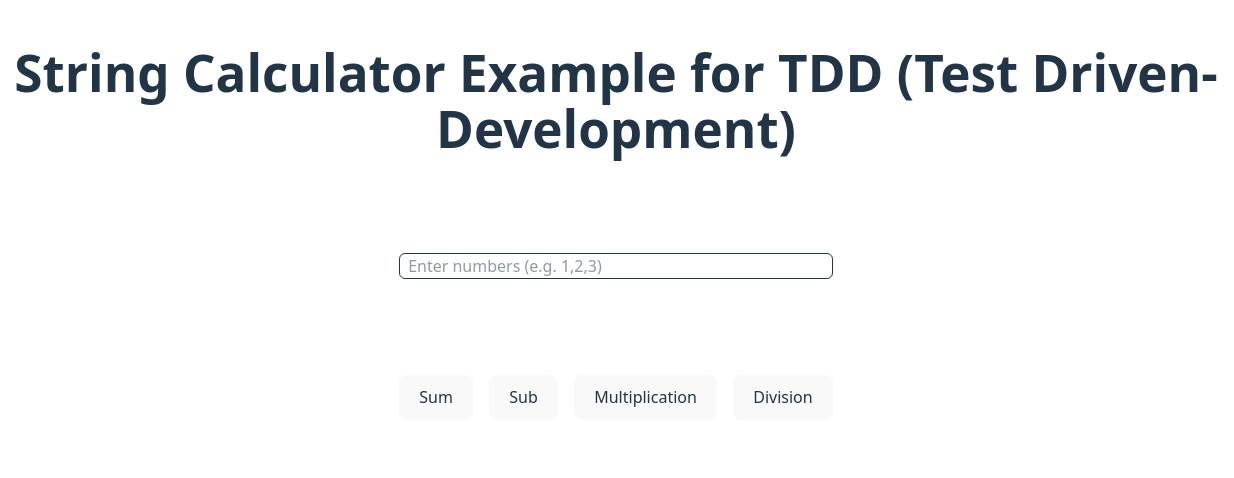
Test: multiply numbers separated by comma.
Type "3,2,1" into the field.
click(616, 266); type("3,2,1")  # box left=399, top=253, right=833, bottom=279
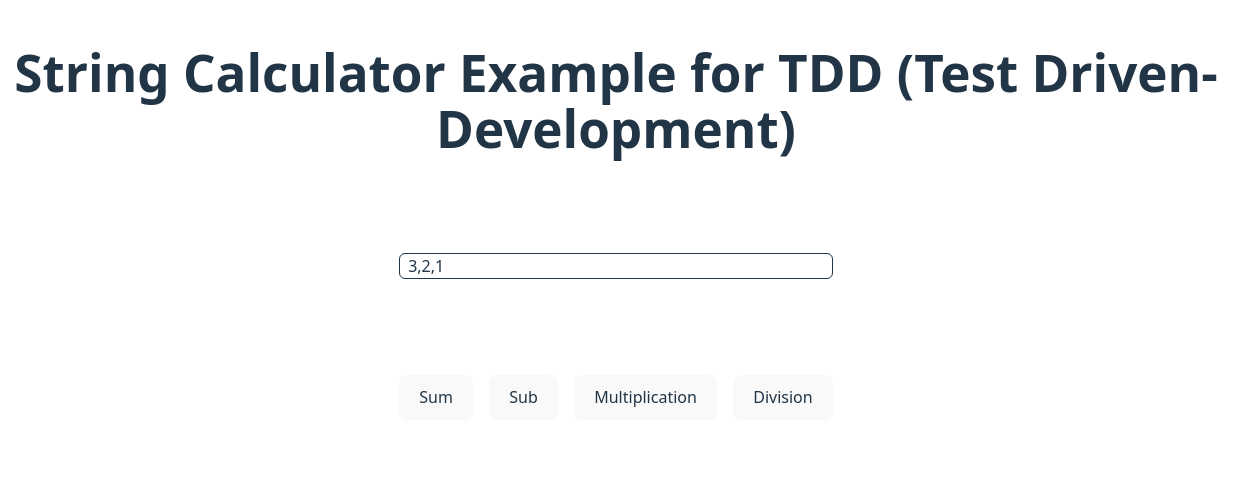
Click the button "Multiplication".
click(646, 397)  # box left=574, top=375, right=717, bottom=420
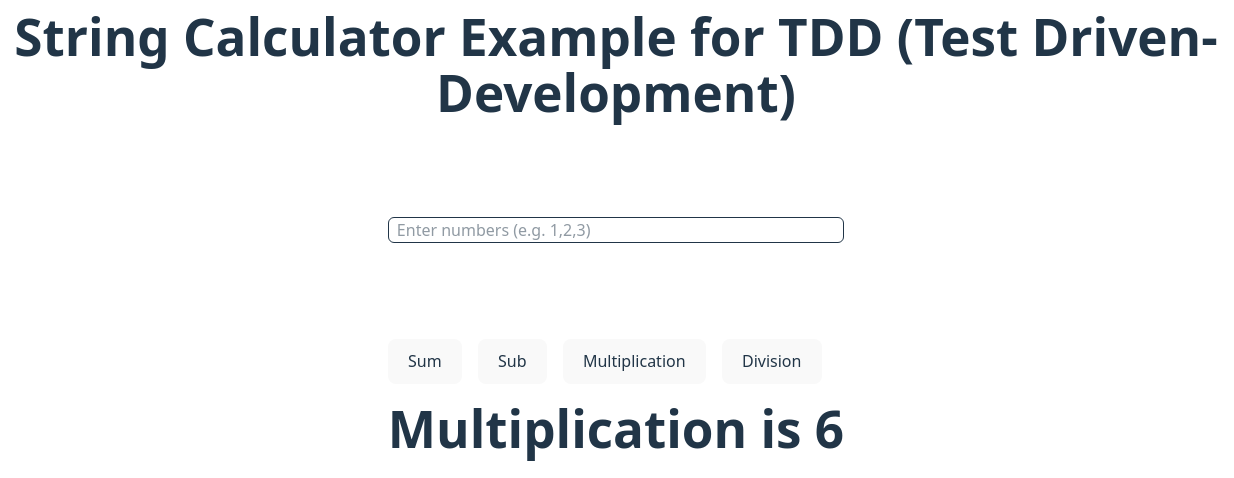
expect the heading "Multiplication is 6" is shown: met, box left=388, top=400, right=844, bottom=456
